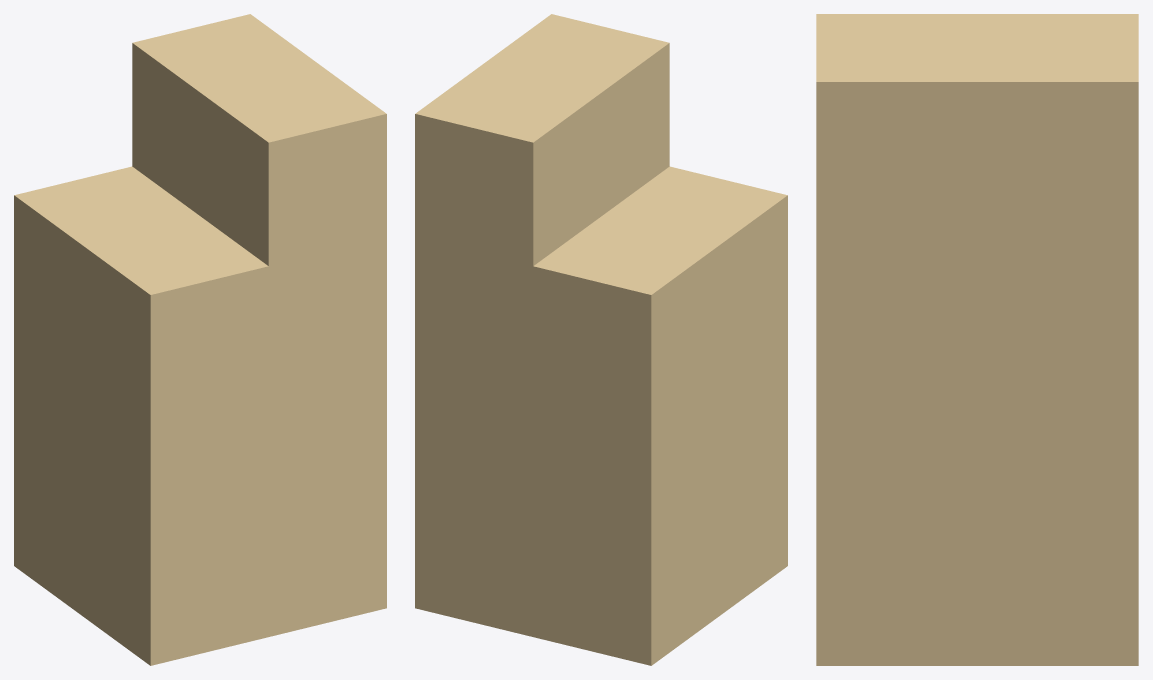
Rendered from puppy__leg_fl.glb.
3 renders of one model, left to right at view 1: azimuth 30°, elevation 25°; view 2: azimuth 150°, elevation 25°; view 3: azimuth 270°, elevation 25°, orthographic. The views are drawn at different scales.
Visible parts, largest first — view 1: puppy__leg_fl; view 2: puppy__leg_fl; view 3: puppy__leg_fl.
Part boxes in pixels (bbox=[...]): puppy__leg_fl: bbox=[14, 14, 386, 665]; puppy__leg_fl: bbox=[415, 14, 787, 665]; puppy__leg_fl: bbox=[816, 14, 1138, 665].
Size of the model in its own units: 0.2 by 0.4 by 0.2.
Materials: 1 (1 with a texture image).
